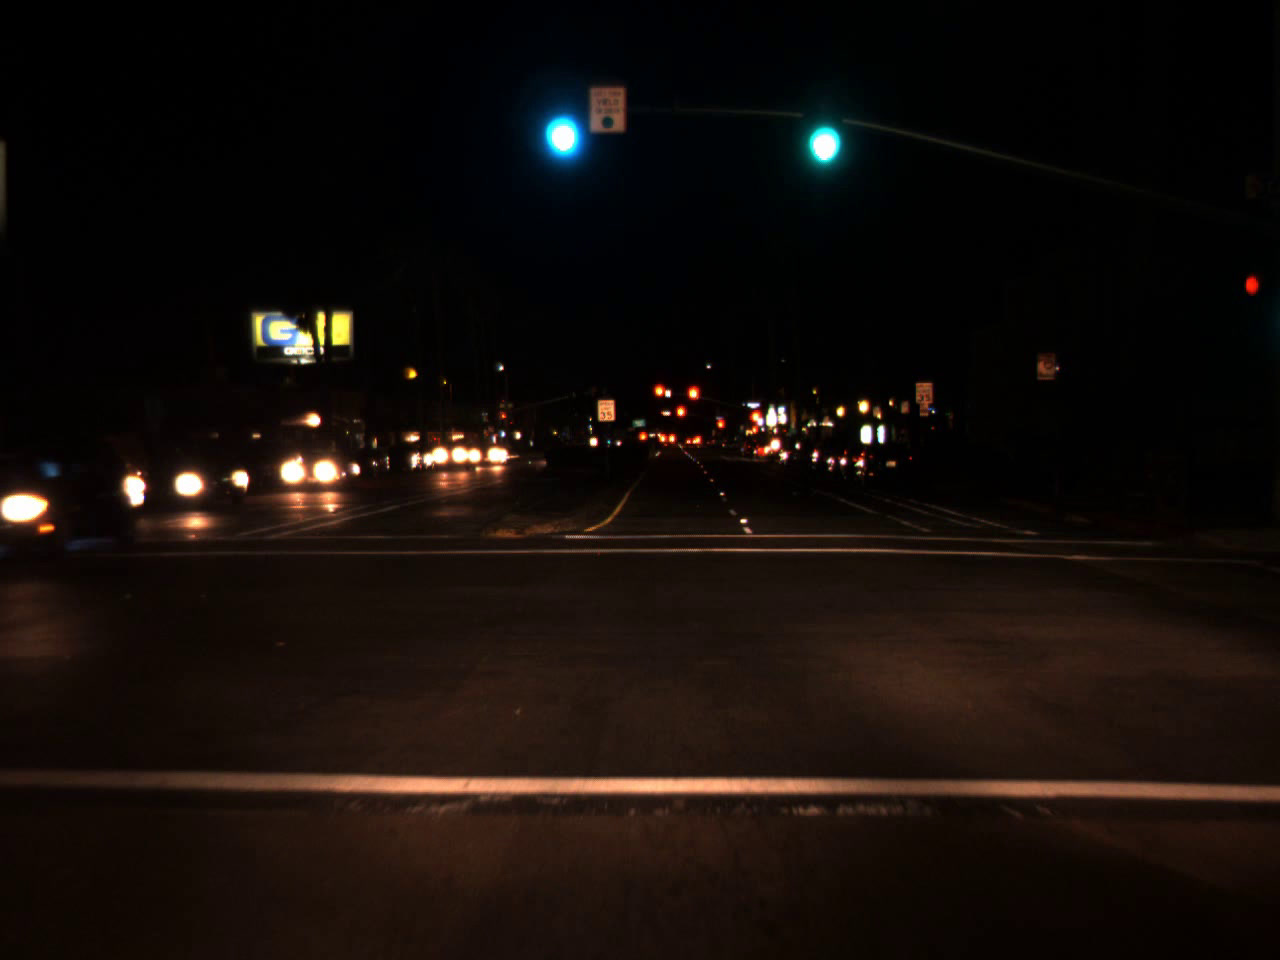go: (798, 87, 843, 174), (541, 90, 580, 162)
stop: (686, 382, 701, 417), (652, 383, 668, 410), (675, 403, 687, 430), (751, 410, 760, 434), (716, 418, 725, 439), (501, 413, 507, 423)
